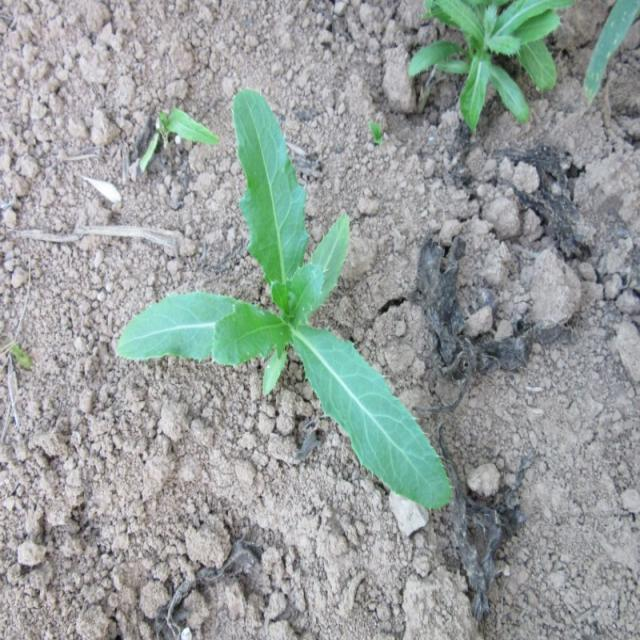cs: (114, 86, 456, 511)
